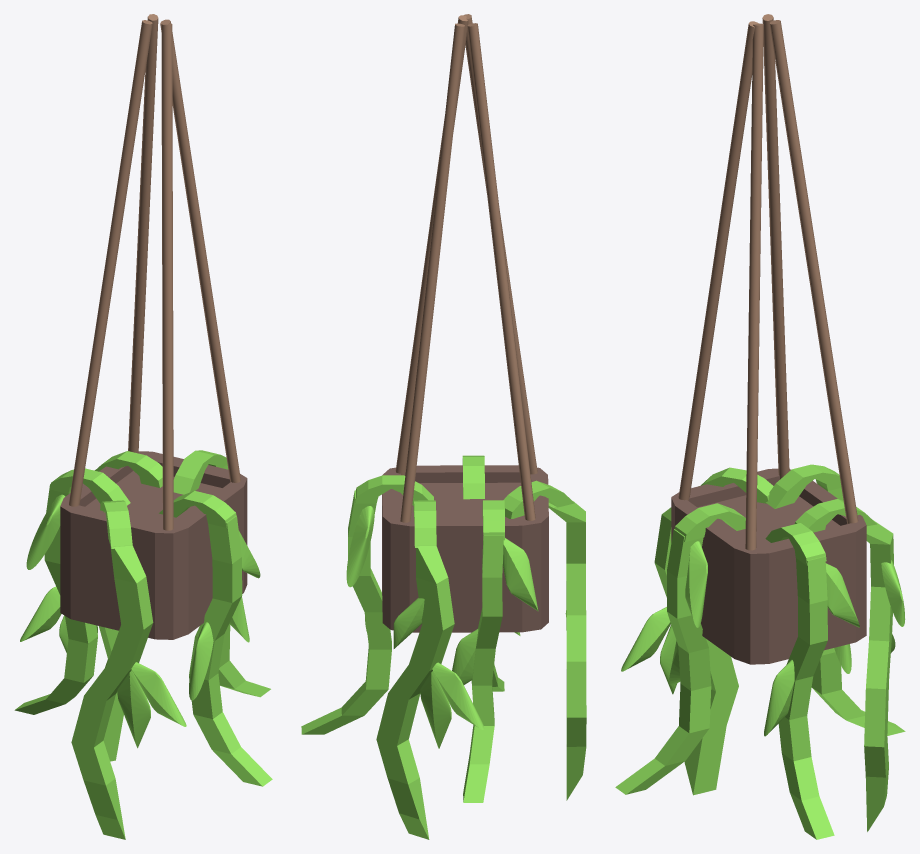
Rendered from zhiwu1.fbx.
The picture shows the model from 3 angles, left to right: view 1: azimuth 30°, elevation 25°; view 2: azimuth 150°, elevation 25°; view 3: azimuth 270°, elevation 25°; orthographic projection. The views are drawn at different scales.
Parts seen in each view (by area): view 1: polySurface2, polySurface12, polySurface33, polySurface1, polySurface37, polySurface3, polySurface36, polySurface6, polySurface10, polySurface15, polySurface18, polySurface7 (+8 smaller); view 2: polySurface2, polySurface25, polySurface12, polySurface37, polySurface6, polySurface36, polySurface19, polySurface3, polySurface1, polySurface16, polySurface18, polySurface13 (+9 smaller); view 3: polySurface2, polySurface19, polySurface33, polySurface25, polySurface36, polySurface3, polySurface1, polySurface37, polySurface12, polySurface6, polySurface7, polySurface32 (+9 smaller).
Part boxes in pixels (x1=…): polySurface2: x1=60, y1=451, x2=247, y2=639; polySurface12: x1=71, y1=545, x2=153, y2=839; polySurface33: x1=189, y1=515, x2=272, y2=786; polySurface1: x1=161, y1=23, x2=173, y2=530; polySurface37: x1=69, y1=20, x2=152, y2=506; polySurface3: x1=160, y1=19, x2=240, y2=482; polySurface36: x1=128, y1=14, x2=158, y2=453; polySurface6: x1=14, y1=484, x2=97, y2=714; polySurface10: x1=117, y1=670, x2=150, y2=748; polySurface15: x1=131, y1=662, x2=186, y2=726; polySurface18: x1=173, y1=450, x2=227, y2=494; polySurface7: x1=49, y1=468, x2=130, y2=505; polySurface2: x1=382, y1=465, x2=548, y2=632; polySurface25: x1=376, y1=545, x2=454, y2=839; polySurface12: x1=548, y1=501, x2=586, y2=800; polySurface37: x1=467, y1=23, x2=535, y2=520; polySurface6: x1=463, y1=535, x2=503, y2=802; polySurface36: x1=400, y1=23, x2=464, y2=522; polySurface19: x1=301, y1=490, x2=391, y2=734; polySurface3: x1=395, y1=15, x2=468, y2=475; polySurface1: x1=464, y1=14, x2=537, y2=474; polySurface16: x1=346, y1=506, x2=374, y2=587; polySurface18: x1=355, y1=475, x2=433, y2=505; polySurface13: x1=503, y1=480, x2=574, y2=518; polySurface2: x1=671, y1=468, x2=866, y2=664; polySurface19: x1=778, y1=556, x2=834, y2=839; polySurface33: x1=615, y1=529, x2=711, y2=794; polySurface25: x1=864, y1=520, x2=893, y2=831; polySurface36: x1=769, y1=20, x2=858, y2=523; polySurface3: x1=745, y1=23, x2=763, y2=550; polySurface1: x1=678, y1=21, x2=758, y2=500; polySurface37: x1=762, y1=14, x2=789, y2=479; polySurface12: x1=654, y1=507, x2=738, y2=795; polySurface6: x1=811, y1=482, x2=905, y2=735; polySurface7: x1=766, y1=464, x2=841, y2=508; polySurface32: x1=674, y1=503, x2=745, y2=541.
Bounding box in the file's own units: 112 × 342 × 112.
